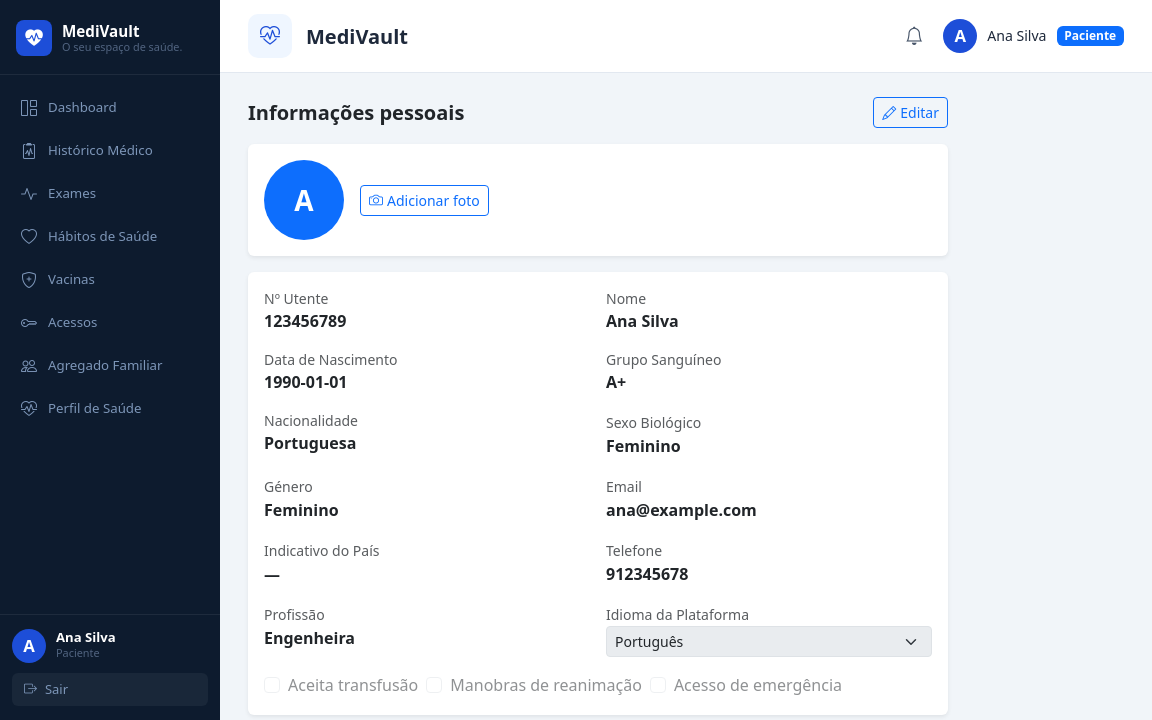
Test: ProfilePage - critical field confirmation popup › shows a warning popup when toggling "Manobras de reanimação"
Click the button "Editar" at (911, 112), box x1=873 y1=97 x2=948 y2=128
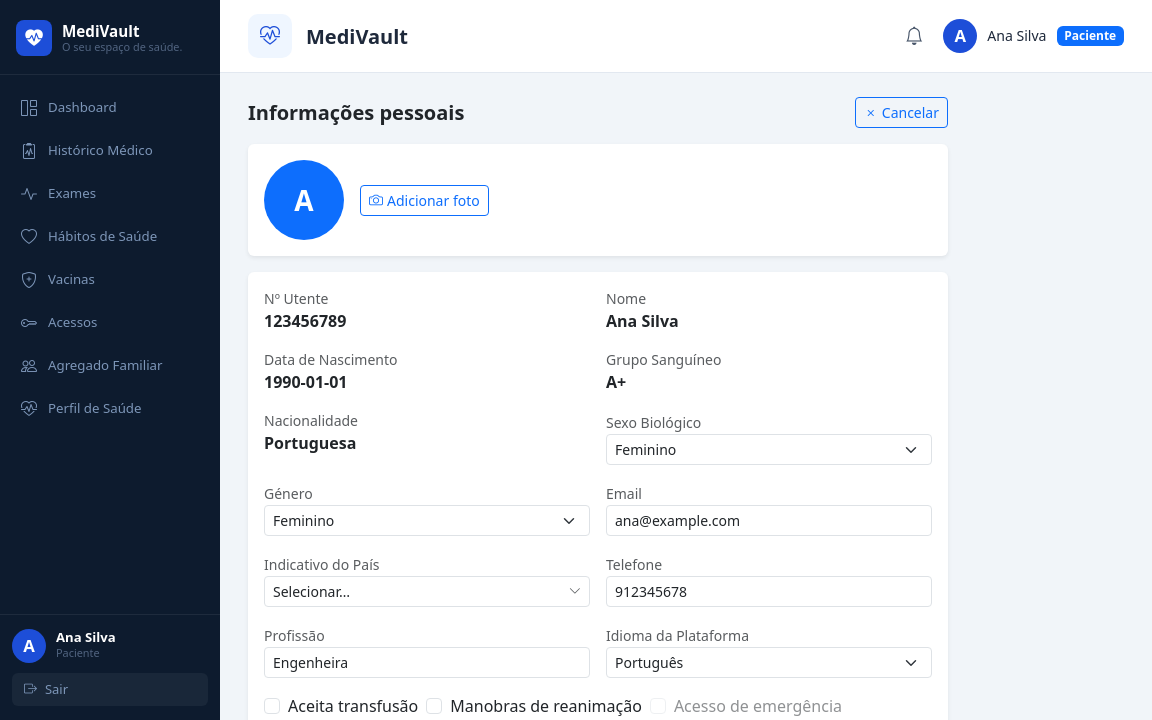
Click the checkbox labelled "Manobras de reanimação" at (434, 706), box x1=426 y1=698 x2=442 y2=714
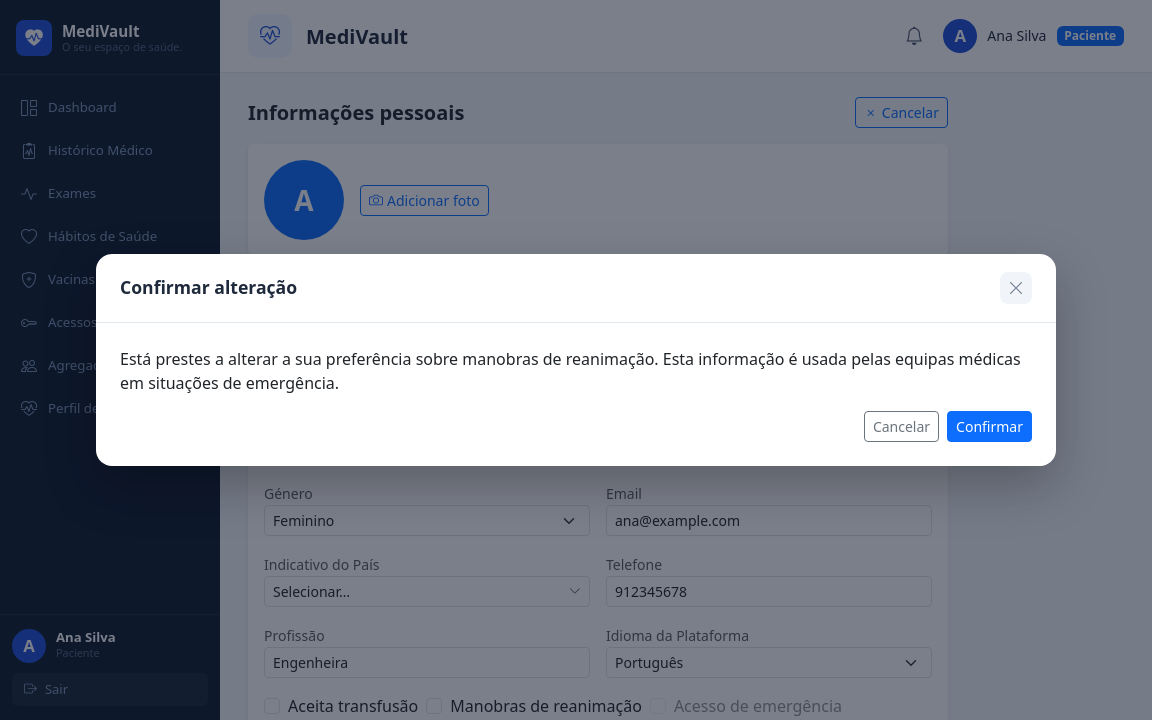
Expected: the text "manobras de reanimação" is shown, x1=120 y1=348 x2=1021 y2=394
